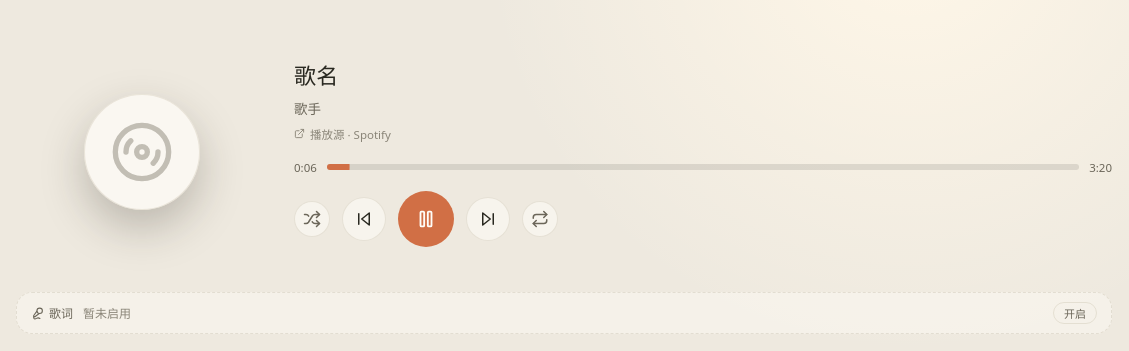
MusicImmersive · 歌词链路 › 取词失败 → 「暂无歌词」不崩溃
Step 1. Click the button "开启" → [1075, 313], box left=1053, top=302, right=1097, bottom=324
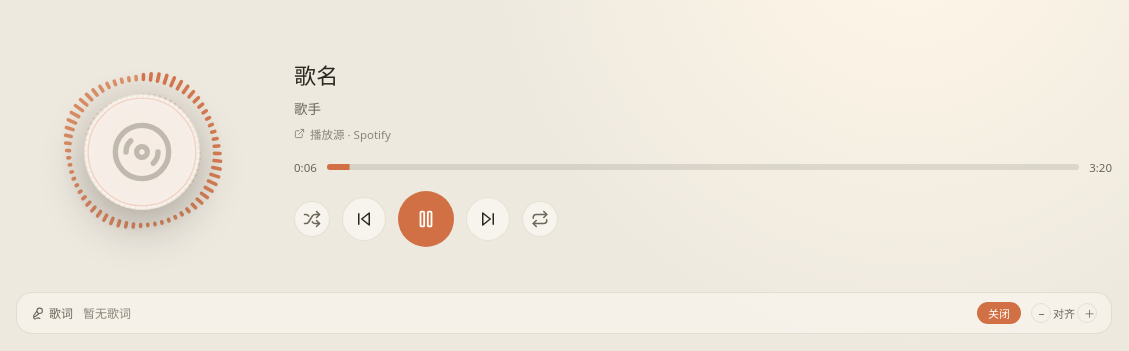
Check: the text "暂无歌词" is shown, box left=83, top=305, right=131, bottom=322
